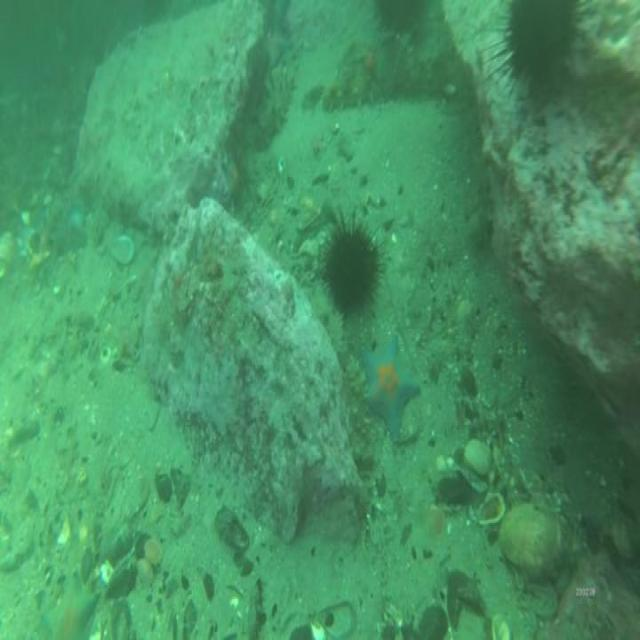echinus: (505, 2, 579, 92), (325, 227, 379, 313)
holothurian: (254, 71, 294, 157), (321, 76, 380, 110)
starfish: (362, 334, 418, 439), (44, 575, 96, 640)
